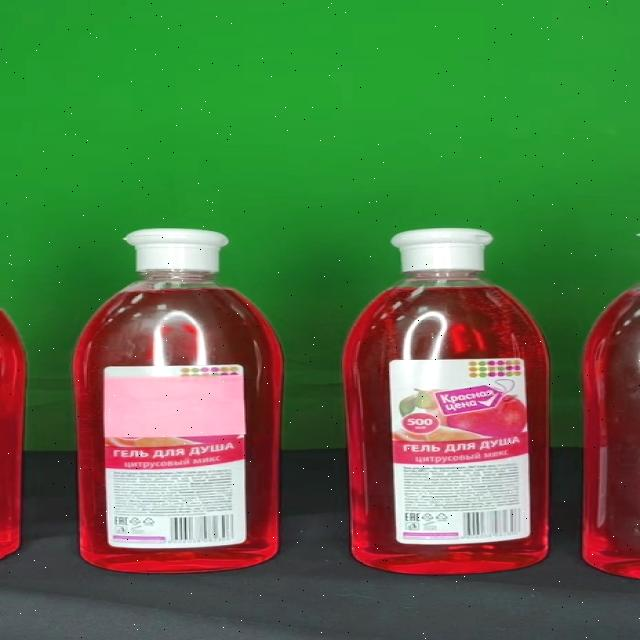Bottle: (71, 228, 284, 572), (342, 228, 548, 573)
Cap: (124, 230, 229, 272), (389, 228, 493, 270)
